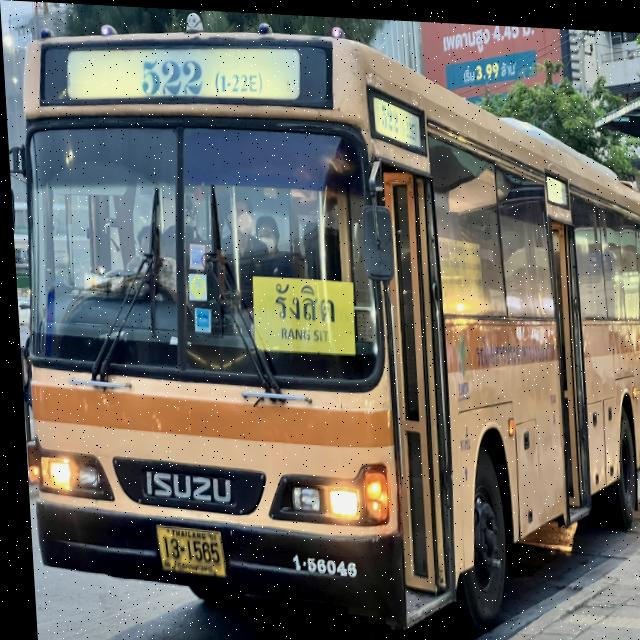BMTA-bus: (0, 3, 640, 640)
Bus Line Number: (132, 44, 265, 104)
Bus Side Number: (276, 540, 359, 581)
Destination Sign: (248, 275, 354, 356)
